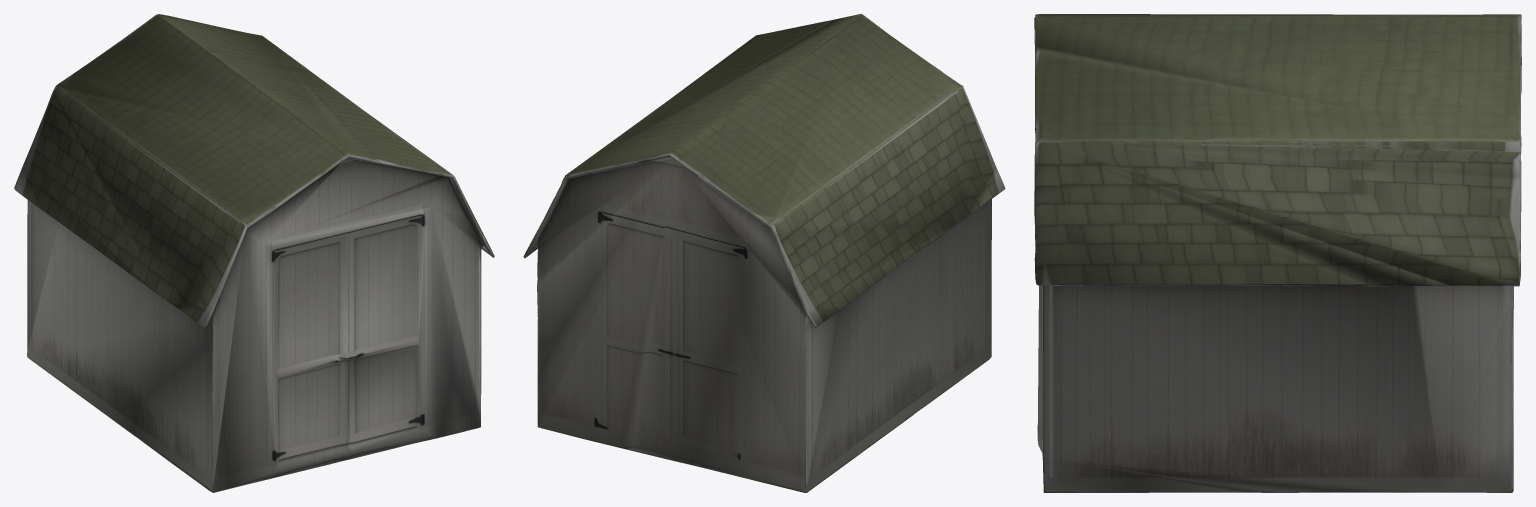
File: shed.fbx
3 views of the same model, side by side, from view 1: azimuth 30°, elevation 25°; view 2: azimuth 150°, elevation 25°; view 3: azimuth 270°, elevation 25° (orthographic). The views are drawn at different scales.
Parts seen in each view (by area): view 1: shed; view 2: shed; view 3: shed.
Part boxes in pixels (x1,y1,x2,y2): shed: (14, 14, 494, 492); shed: (523, 14, 1005, 492); shed: (1034, 14, 1521, 492).
Bounding box in the file's own units: 1.77 × 1.79 × 2.02.
Materials: 1 (1 with a texture image).
